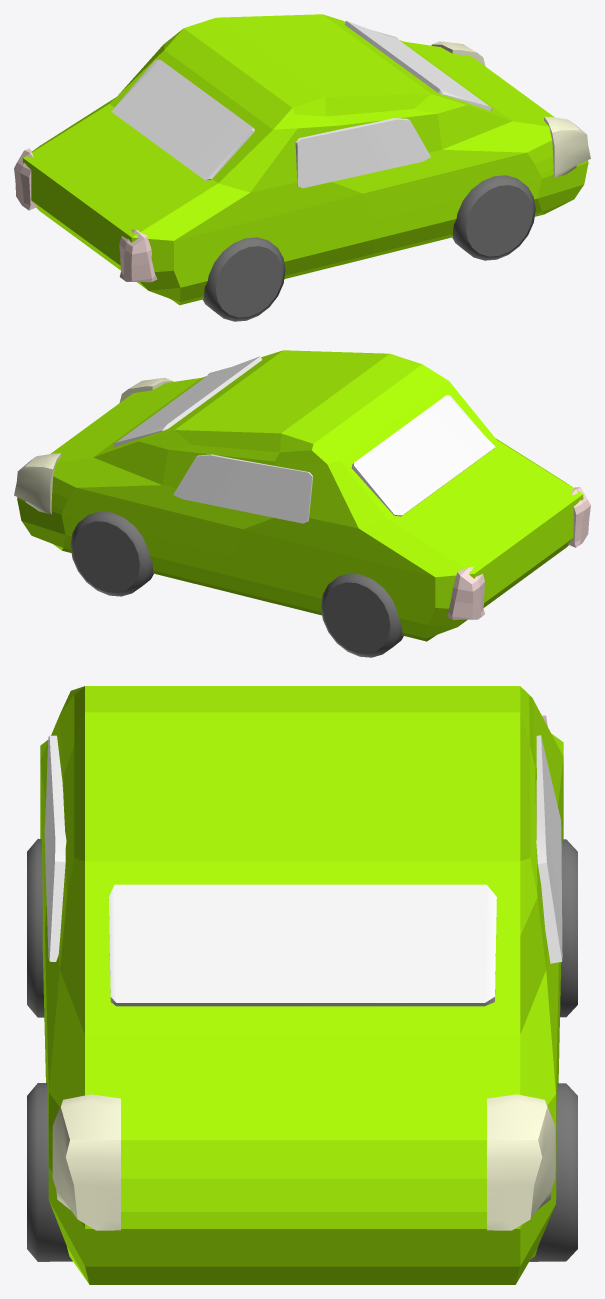
The model's file is CarroVerde.fbx.
3 views of the same model, one above another, from view 1: azimuth 30°, elevation 25°; view 2: azimuth 150°, elevation 25°; view 3: azimuth 270°, elevation 25° (orthographic). The views are drawn at different scales.
Parts seen in each view (by area): view 1: pCube1, pCube10, pCube8, pCylinder1, pCylinder2, pCube6, pCube11, pCube9; view 2: pCube1, pCube10, pCube12, pCylinder3, pCylinder4, pCube6, pCube11, pCube9; view 3: pCube1, pCube6, pCube9, pCylinder1, pCylinder3, pCube12, pCube8, pCylinder4, pCylinder2.
Part boxes in pixels (<box>): pCube1: <box>23,14,588,305</box>; pCube10: <box>111,59,254,180</box>; pCube8: <box>295,118,430,188</box>; pCylinder1: <box>452,175,535,260</box>; pCylinder2: <box>203,237,285,321</box>; pCube6: <box>344,21,492,110</box>; pCube11: <box>14,148,157,282</box>; pCube9: <box>431,41,590,177</box>; pCube1: <box>17,350,583,641</box>; pCube10: <box>351,395,495,516</box>; pCube12: <box>173,454,312,523</box>; pCylinder3: <box>70,511,153,596</box>; pCylinder4: <box>321,573,403,657</box>; pCube6: <box>113,356,261,446</box>; pCube11: <box>447,487,590,619</box>; pCube9: <box>14,378,173,514</box>; pCube1: <box>40,686,563,1284</box>; pCube6: <box>108,884,496,1006</box>; pCube9: <box>52,1094,555,1230</box>; pCylinder1: <box>27,1083,72,1261</box>; pCylinder3: <box>529,1083,577,1261</box>; pCube12: <box>536,735,562,963</box>; pCube8: <box>44,735,66,961</box>; pCylinder4: <box>560,839,577,1017</box>; pCylinder2: <box>27,838,44,1017</box>.
Bounding box in the file's own units: 21.52 × 8.56 × 11.09.
